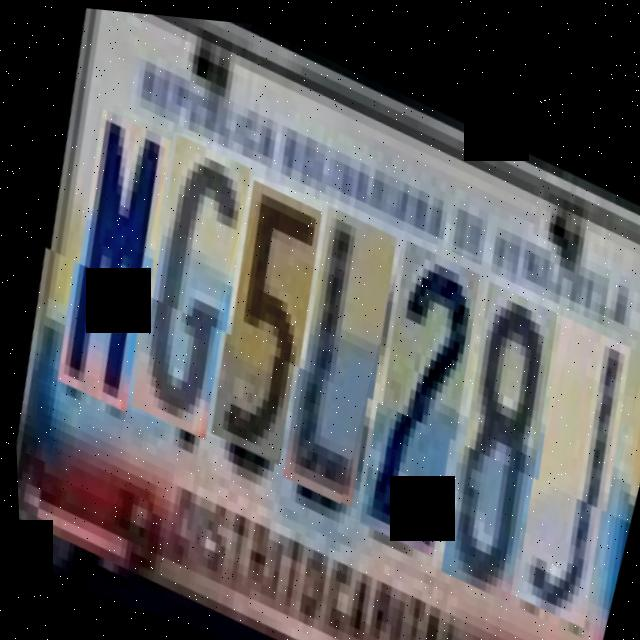2: (326, 219, 505, 545)
5: (180, 165, 344, 460)
8: (407, 254, 584, 588)
G: (98, 121, 274, 438)
J: (483, 287, 640, 610)
L: (250, 187, 420, 500)
M: (24, 99, 194, 412)
